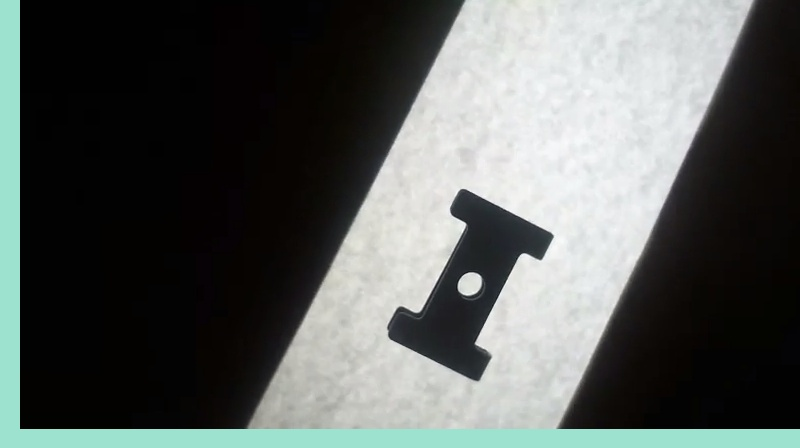O002: (384, 185, 556, 381)
